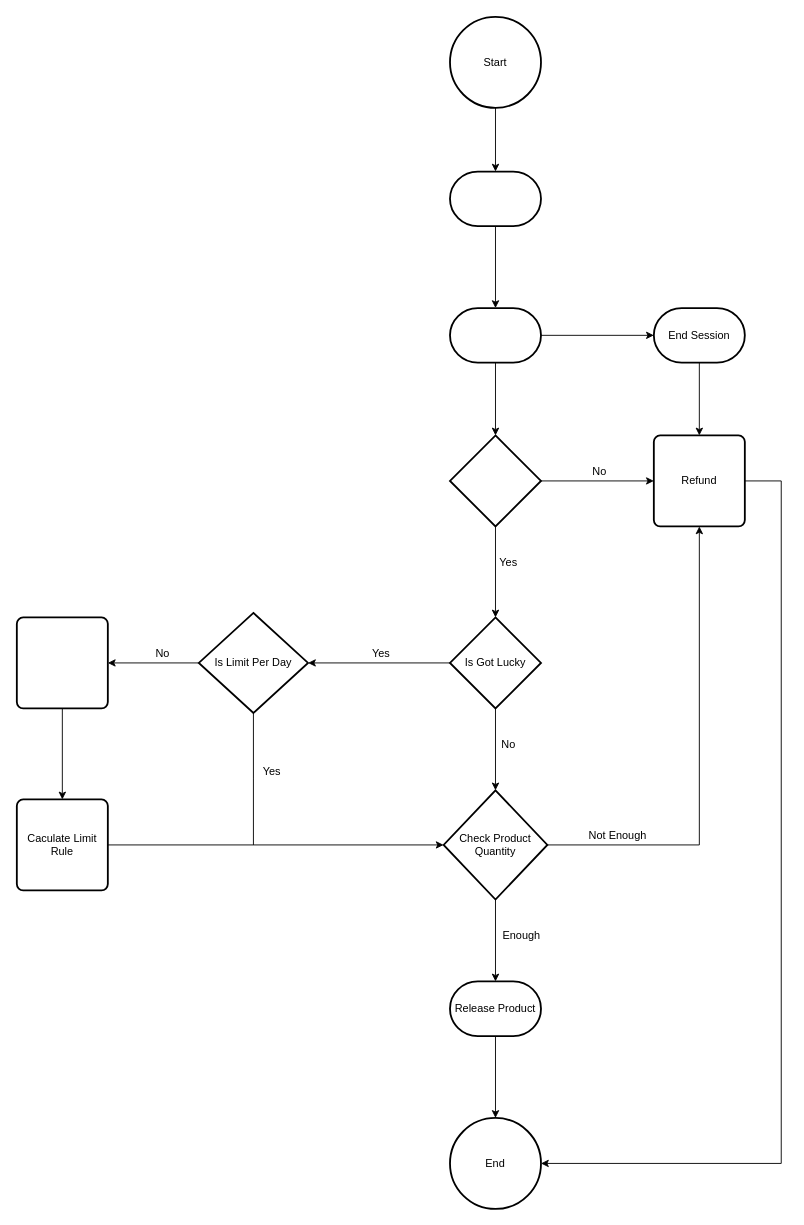
This 804x1225 diagram has some shape labels left out. Each missing label, with the box of its shape:
Add 1 Product S ame Kind: (15, 616, 108, 709)
Confirm Product: (449, 434, 541, 527)
Insert Money: (449, 170, 541, 227)
Select Product: (449, 307, 541, 363)
